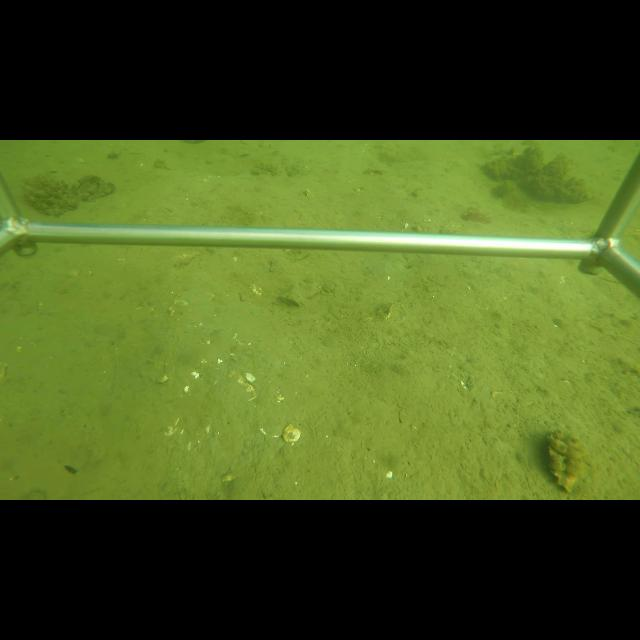Oyster-Closed: (546, 426, 586, 495)
